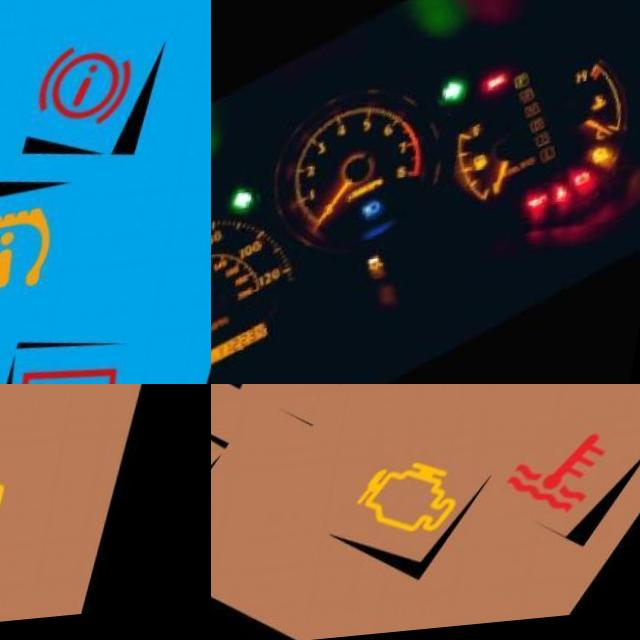High Engine Coolant Temperature: (593, 100, 616, 120)
Seat Belt: (560, 193, 580, 211)
